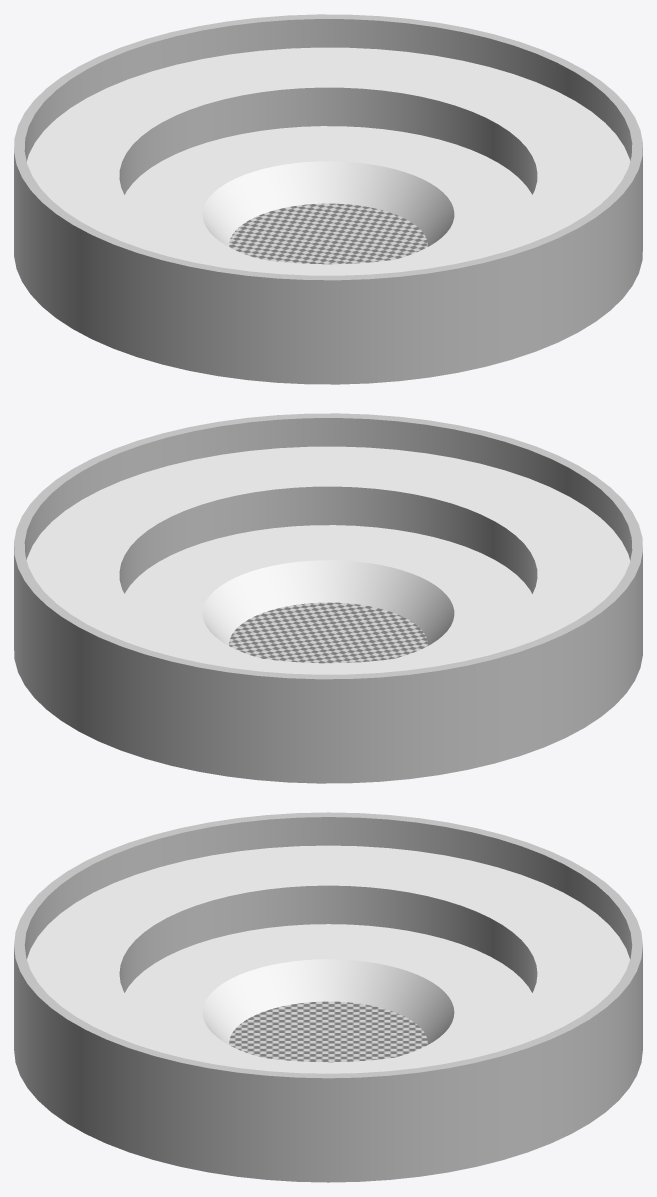
File: testlevel.gltf
3 views of the same model, one above another, from view 1: azimuth 30°, elevation 25°; view 2: azimuth 150°, elevation 25°; view 3: azimuth 270°, elevation 25° (orthographic).
Parts seen in each view (by area): view 1: Circle; view 2: Circle; view 3: Circle.
Boxes of the visible parts, x1,y1,x2,y2 form: Circle: (14, 14, 642, 384); Circle: (14, 413, 642, 783); Circle: (14, 812, 642, 1182).
Bounding box in the file's own units: 12.66 × 2.31 × 12.66.
5 materials, 1 textured.
